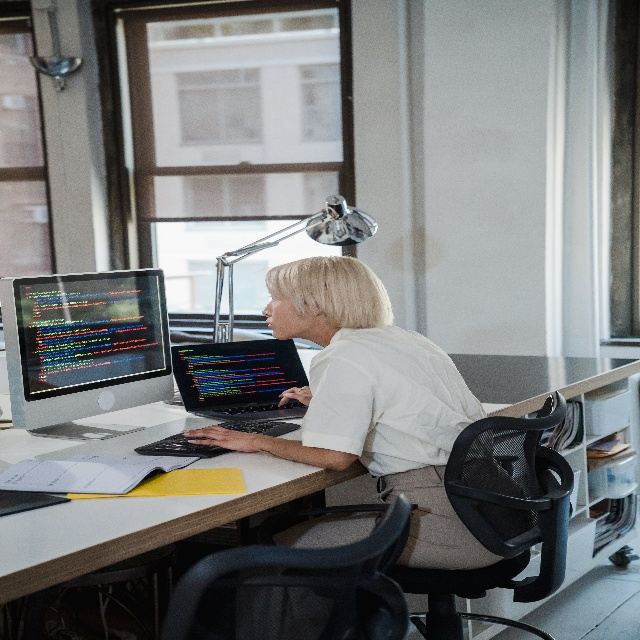Sin_guantes: (181, 424, 259, 453), (278, 386, 312, 406)
